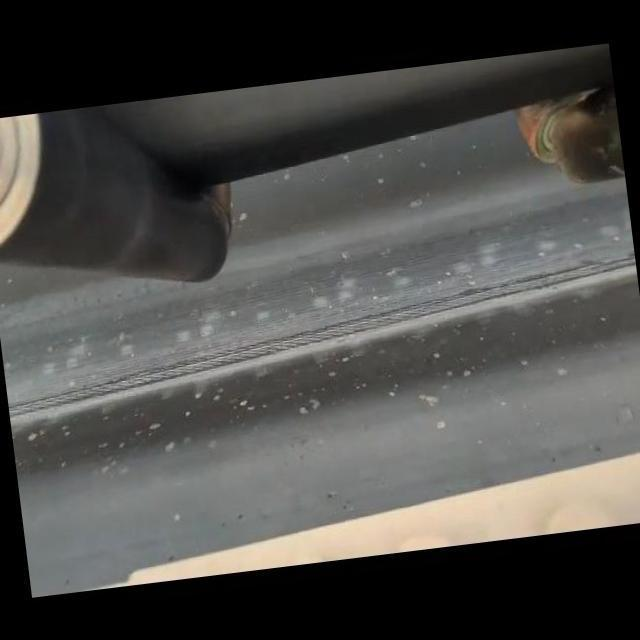Wear: (7, 237, 636, 436)
